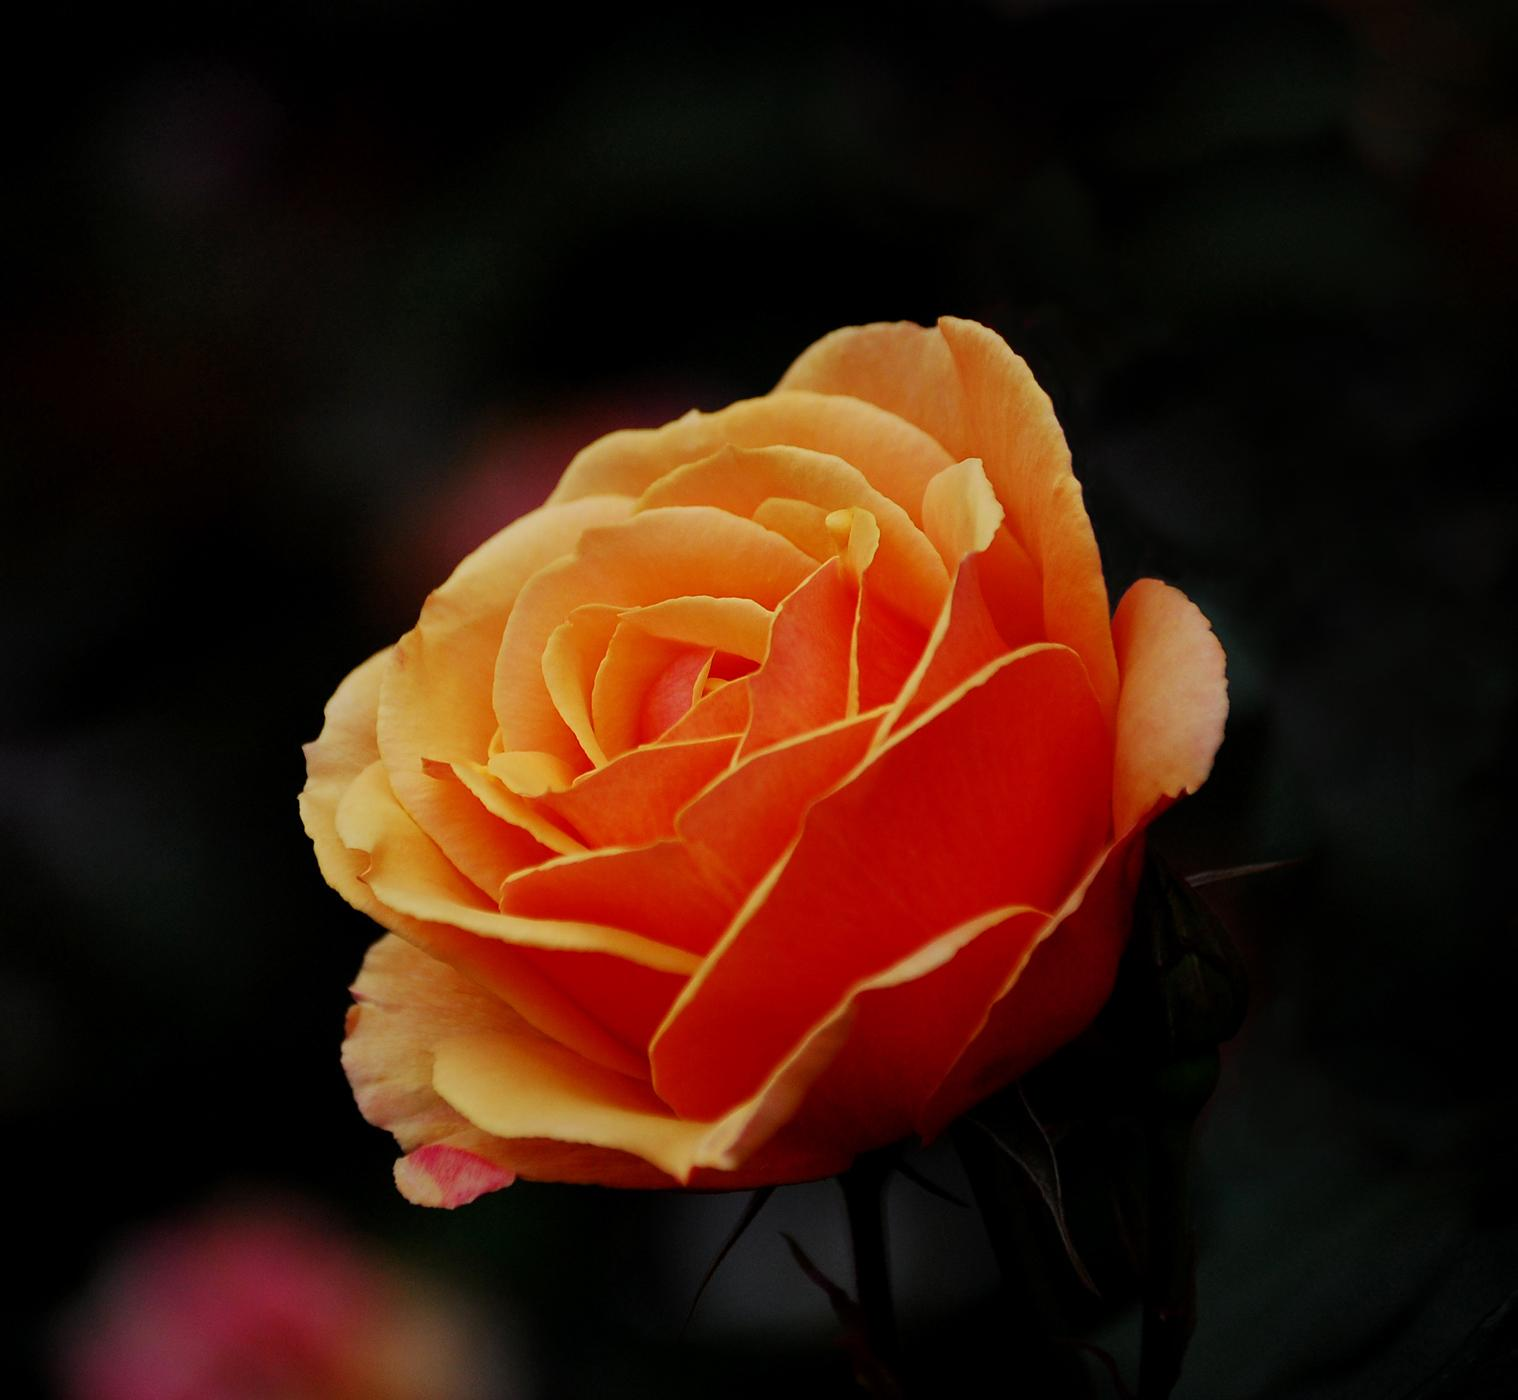rose: (287, 307, 1265, 1225)
